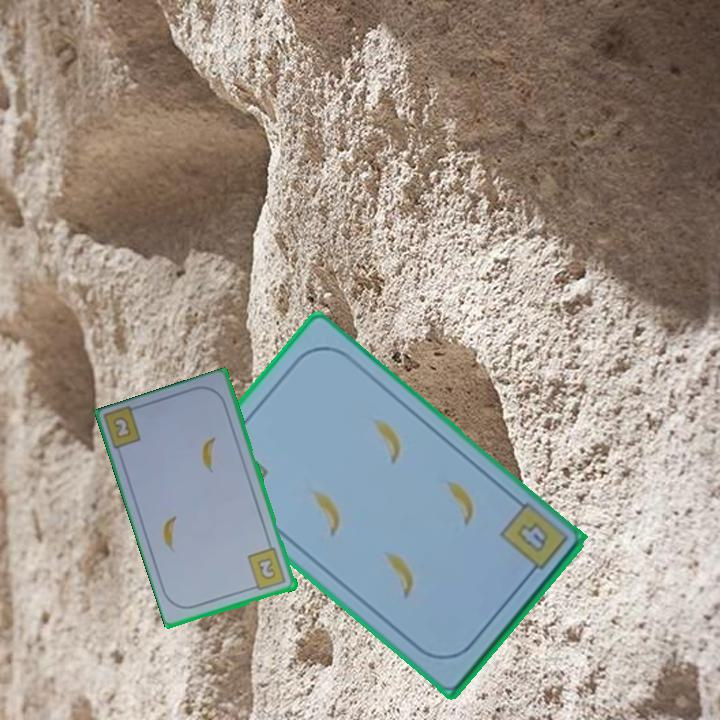2b: (244, 545, 289, 594), (111, 415, 132, 439)
4b: (512, 518, 552, 556)
